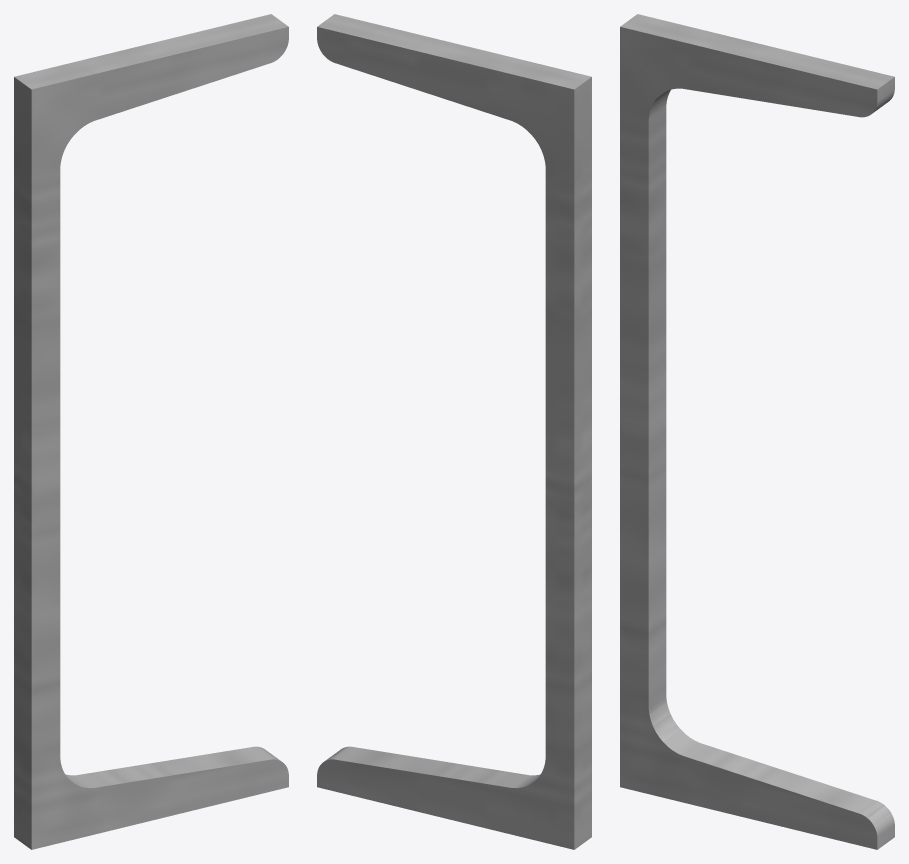
File: UPN240.glb
3 views of the same model, side by side, from view 1: azimuth 30°, elevation 25°; view 2: azimuth 150°, elevation 25°; view 3: azimuth 330°, elevation 25° (orthographic).
Size of the model in its own units: 8.5 by 24 by 1.
1 material, 1 textured.
